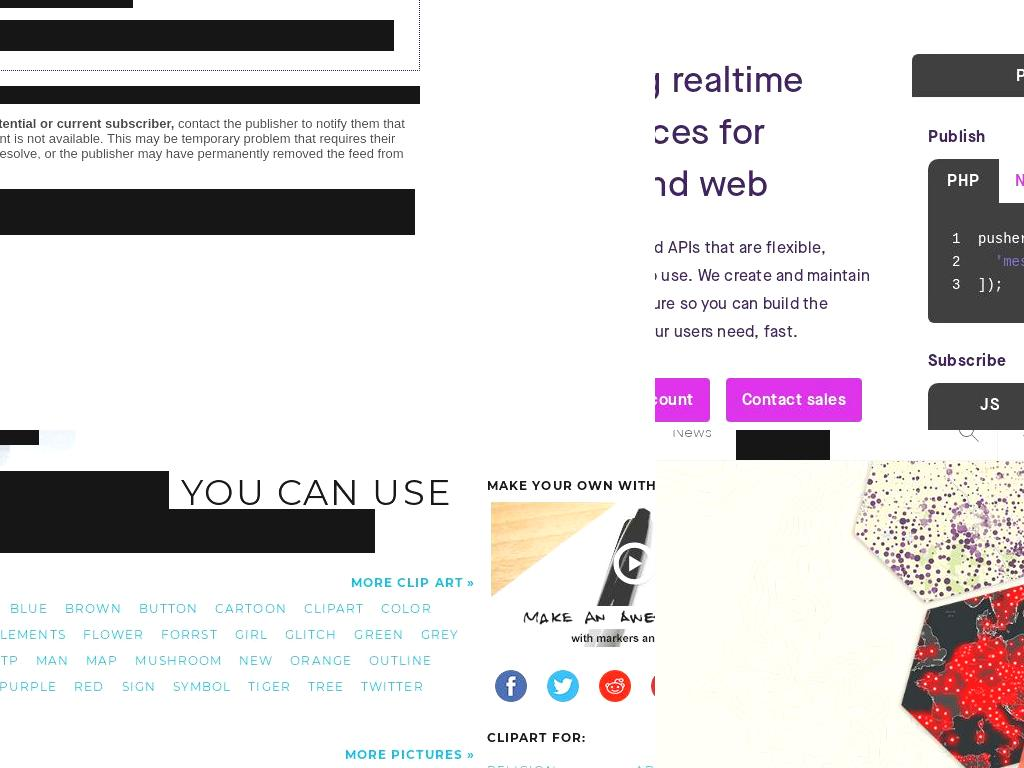button: (725, 378, 862, 422), (912, 54, 1024, 97), (928, 383, 1024, 427), (928, 159, 1000, 203), (725, 389, 862, 410), (736, 430, 830, 460), (655, 430, 737, 460), (655, 378, 710, 422), (130, 650, 228, 670), (487, 755, 635, 768), (940, 430, 997, 460), (210, 598, 292, 618), (363, 650, 438, 670), (77, 624, 150, 644), (285, 650, 358, 670), (356, 676, 429, 696), (298, 598, 370, 618), (133, 598, 204, 618), (0, 624, 71, 644), (167, 676, 237, 696), (60, 598, 128, 618), (156, 624, 224, 644), (279, 624, 343, 644), (0, 676, 63, 696), (376, 598, 438, 618), (349, 624, 410, 644), (655, 389, 710, 410), (999, 159, 1024, 203), (243, 676, 297, 696), (4, 598, 54, 618), (415, 624, 465, 644), (302, 676, 350, 696), (30, 650, 75, 670), (234, 650, 279, 670), (116, 676, 161, 696), (229, 624, 273, 644), (81, 650, 124, 670), (69, 676, 111, 696), (0, 650, 24, 670)
heading: (655, 54, 878, 210), (0, 509, 375, 553), (169, 471, 454, 515), (0, 86, 420, 104), (0, 471, 169, 515), (487, 475, 655, 495), (487, 728, 655, 747)
image: (487, 499, 655, 652), (495, 670, 527, 703), (547, 670, 579, 703), (599, 670, 631, 703), (956, 430, 981, 444)
link: (344, 746, 475, 762), (350, 574, 475, 590)
text: (655, 234, 882, 346), (0, 116, 405, 177), (0, 189, 415, 235), (0, 20, 394, 51), (0, 116, 174, 132), (0, 189, 130, 205), (0, 20, 80, 36), (0, 0, 133, 8), (978, 231, 1024, 247), (760, 430, 806, 442), (672, 430, 713, 442), (994, 254, 1024, 270)
